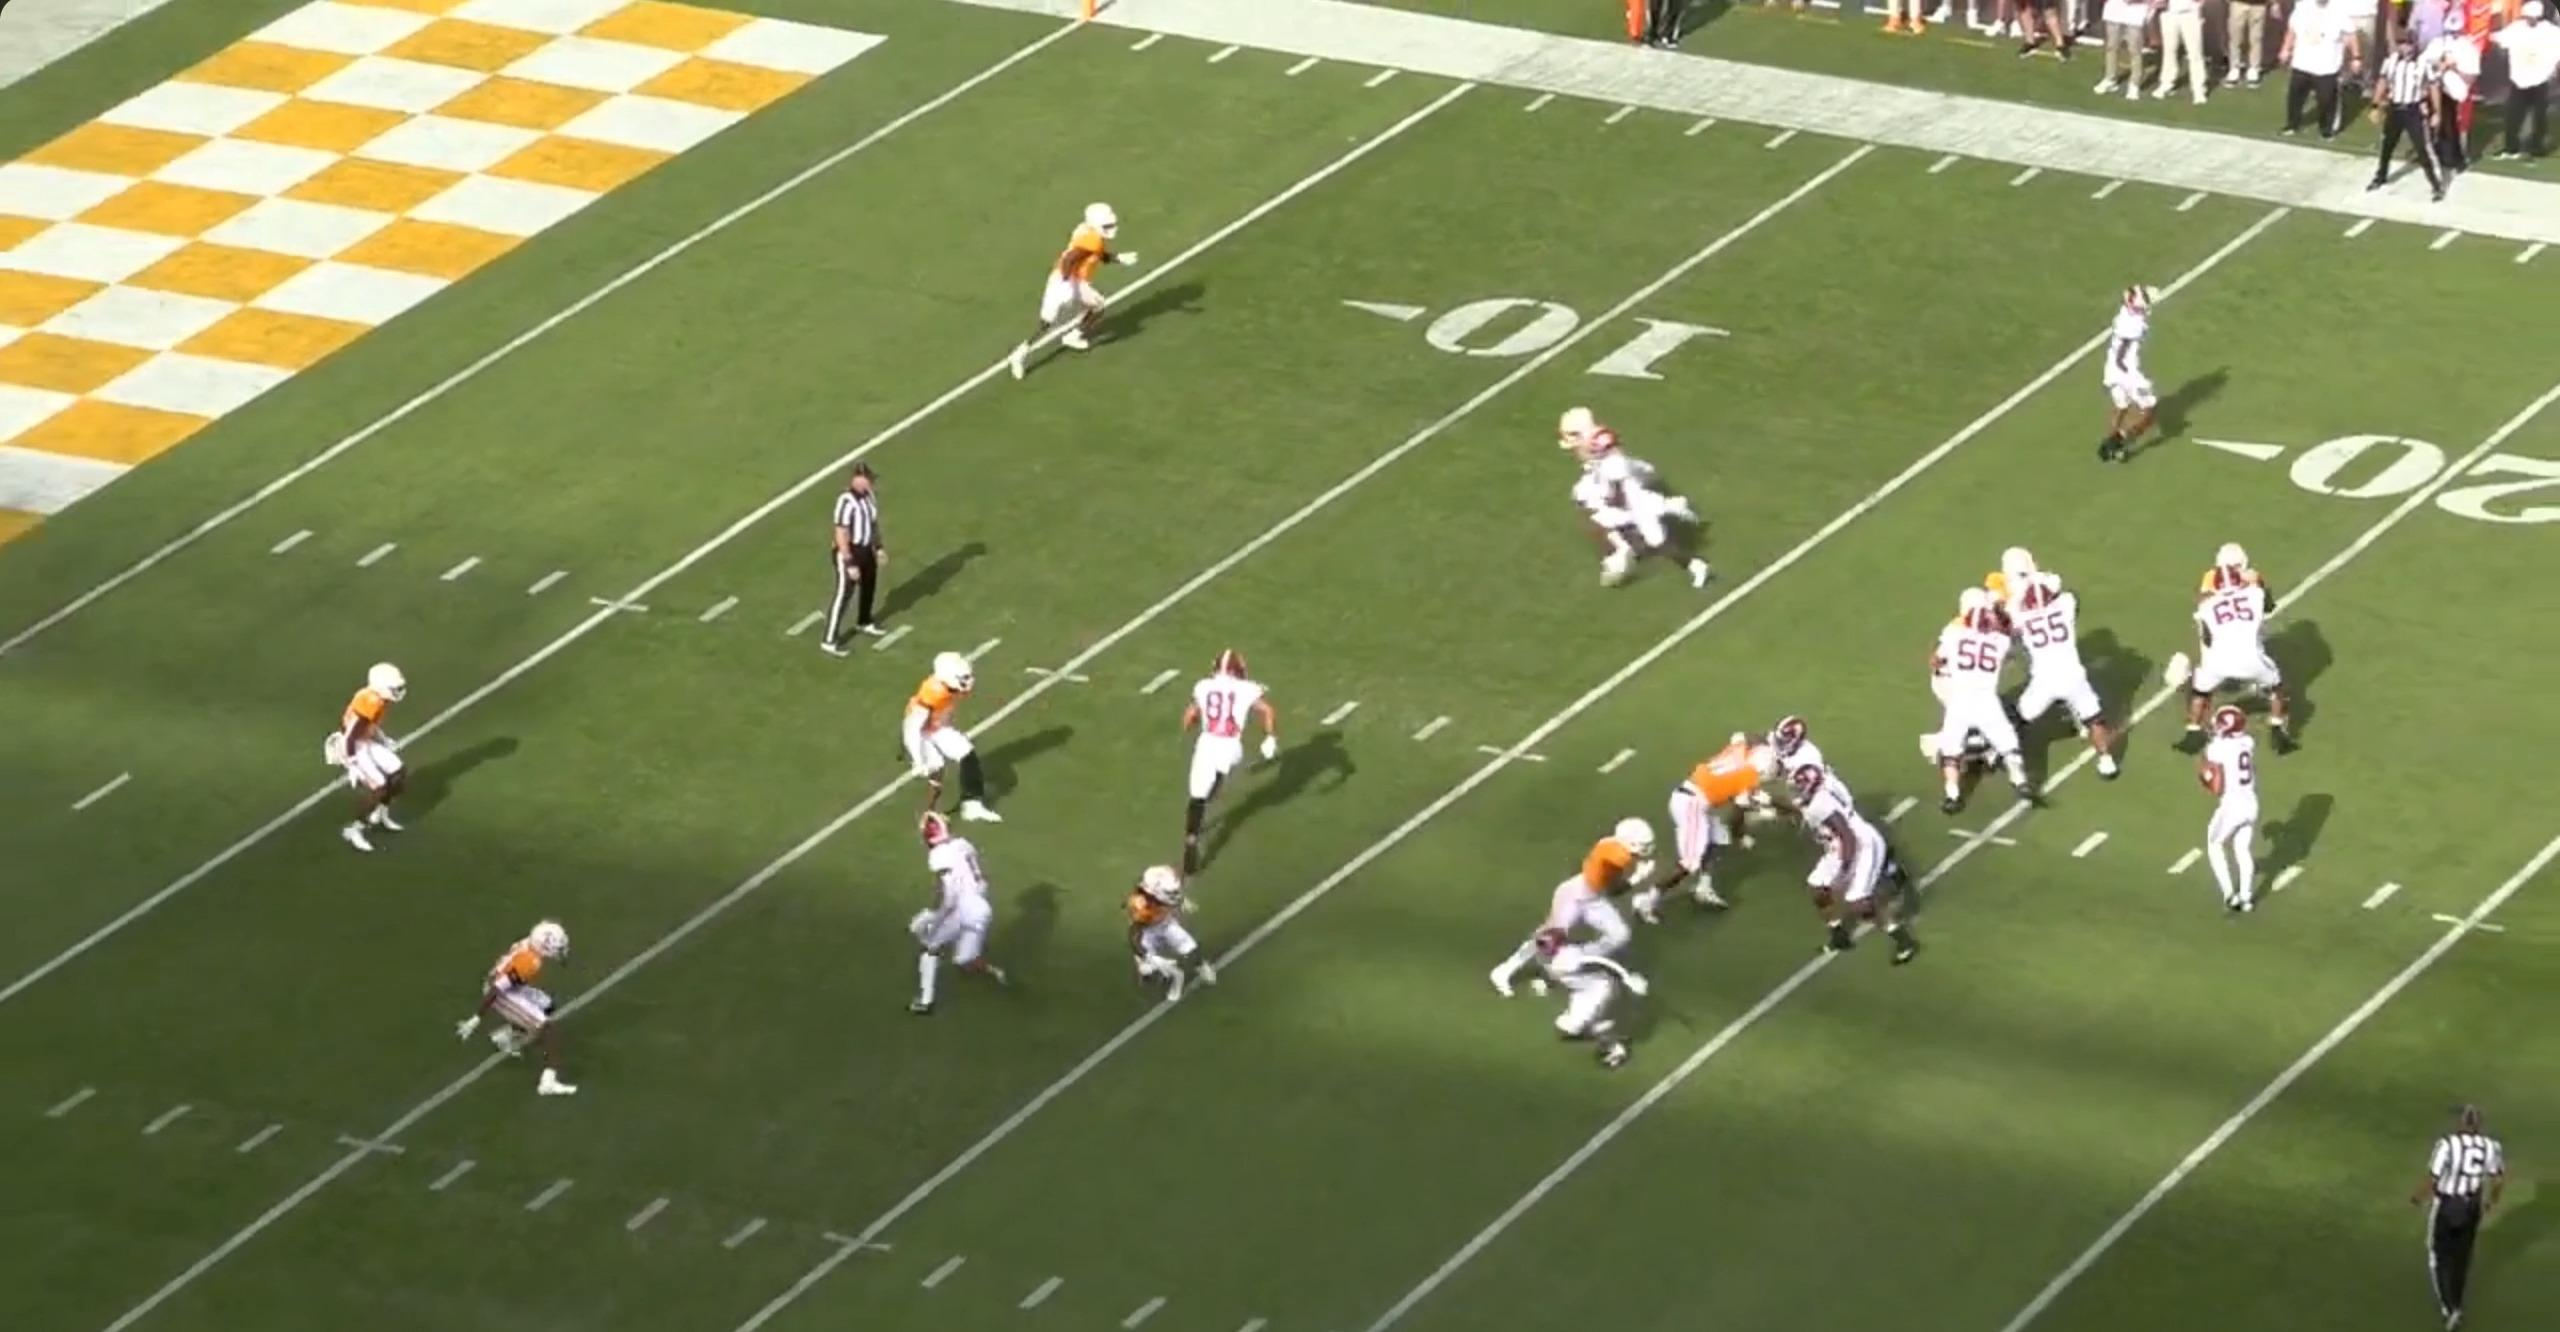defense: (1497, 809, 1676, 1005), (1637, 733, 1773, 929), (449, 916, 574, 1102), (1549, 399, 1707, 530), (1021, 203, 1136, 377), (2160, 540, 2279, 704), (334, 658, 430, 858), (892, 655, 996, 829), (1126, 870, 1229, 1010), (1918, 586, 1998, 765), (1983, 543, 2067, 609)
oline: (1742, 714, 1915, 895), (1923, 603, 2059, 821), (1993, 575, 2130, 785), (1778, 755, 1912, 966), (2171, 562, 2308, 760)
qb: (2191, 704, 2277, 914)
ref: (2411, 1104, 2516, 1332), (2372, 29, 2465, 208), (828, 462, 906, 658)
skill: (1575, 421, 1717, 594), (911, 817, 1026, 1022), (1173, 655, 1277, 875), (1519, 927, 1654, 1071), (2081, 279, 2169, 472)
